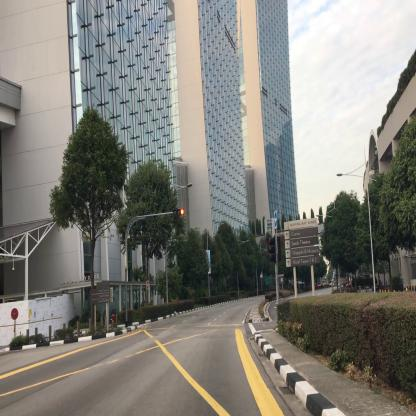red_traffic_light: (173, 209, 184, 214)
